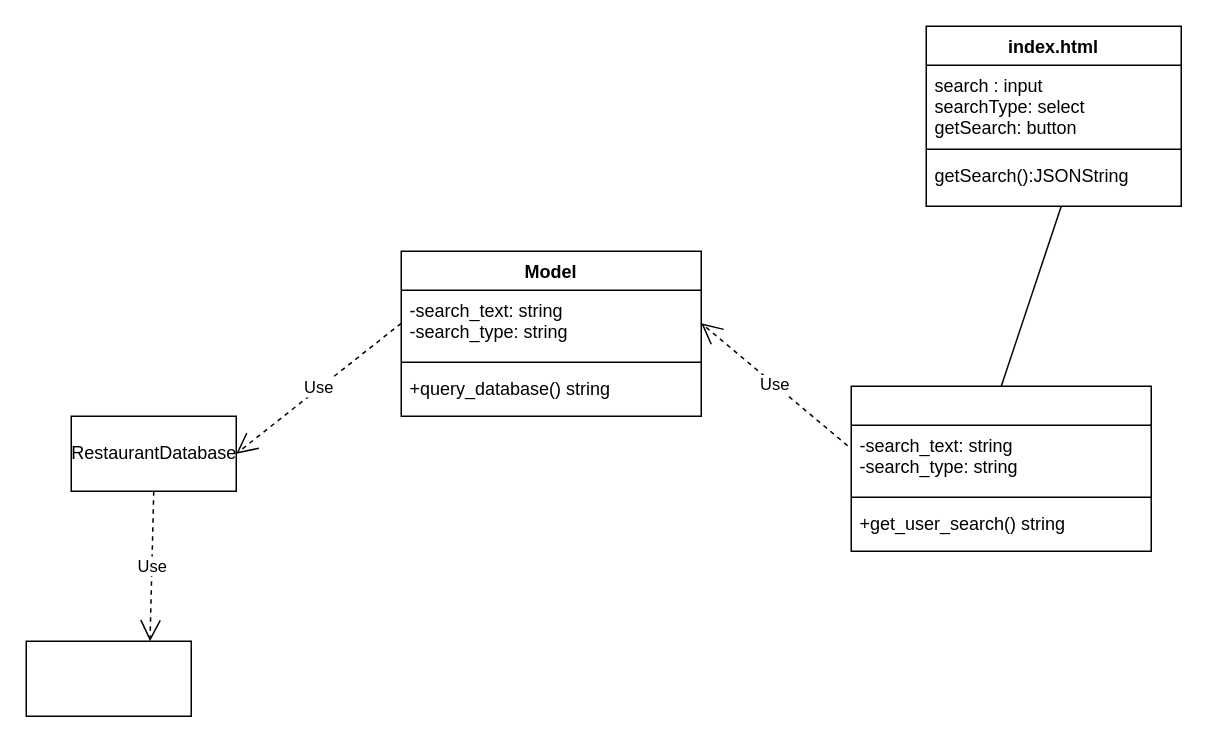
Image size: 1208x743. Some labels were removed from this diagram. The shapes that lost their labels are listed below. From the top down, each one's box as (x1, y1, x2, y2) in pixels, then its label:
(850, 385, 1151, 551): Controller
(25, 640, 191, 716): MySQL Database
